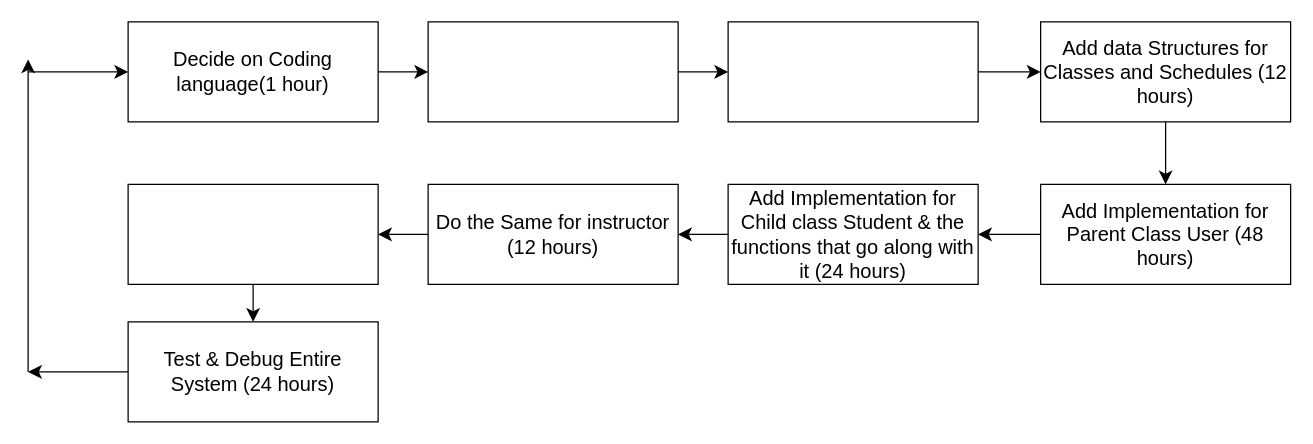
The diagram is 1313 pixels wide and 444 high, and some of its shapes have lost their labels. The shapes that lost their labels are listed below. From the top down, each one's centre as x and y in pixels, then its label:
(552,71): Setup Codebase(1 hour)
(852,71): Create Block Diagram (8 hours)
(252,233): Do the same for Admin (12 hours)
